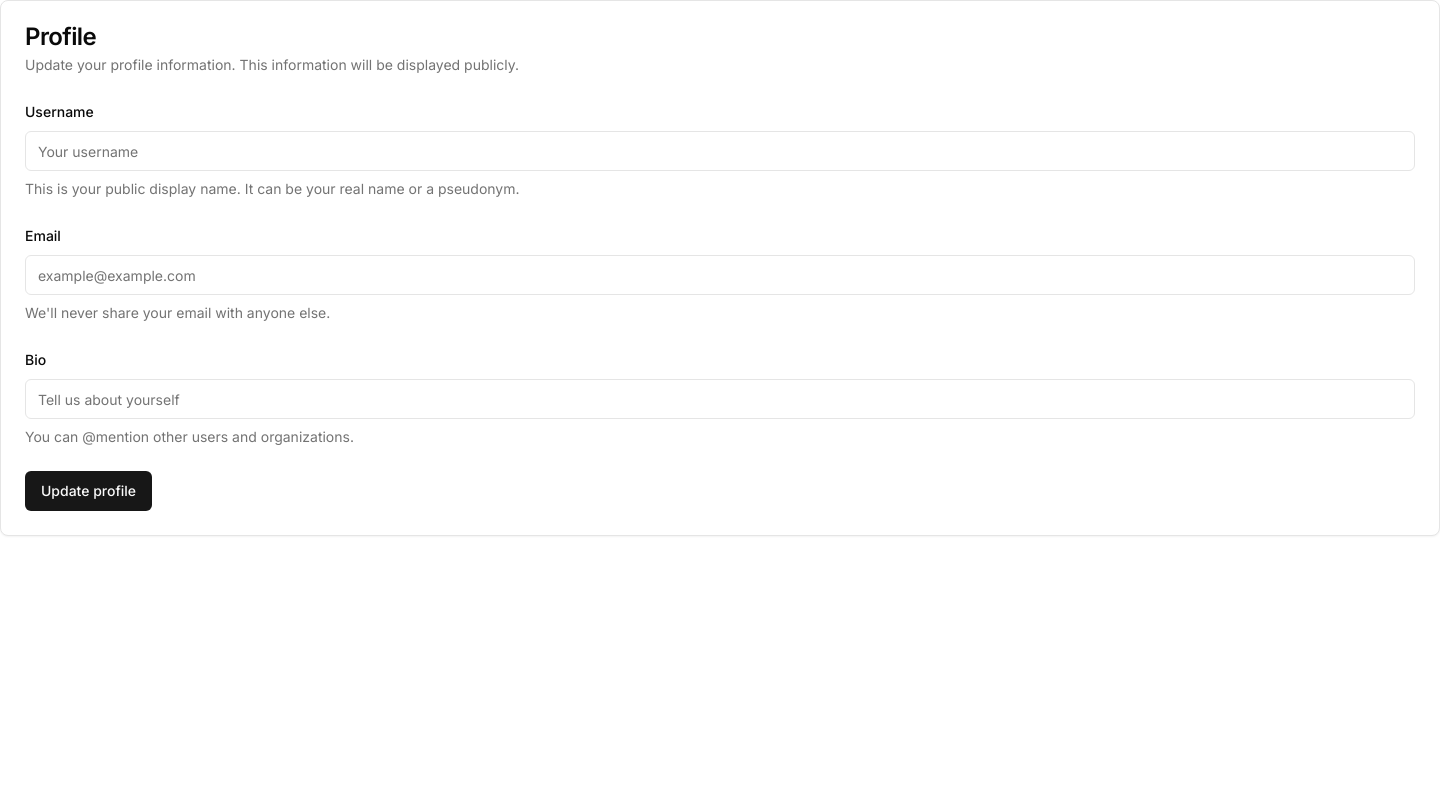
Test: UserProfileForm › validates form fields
// Try to submit with empty fields
What coordinates should you click on to do the following:
click the button "Update profile"
I would click on:
 (89, 491)
Its box is [25,471,152,511].
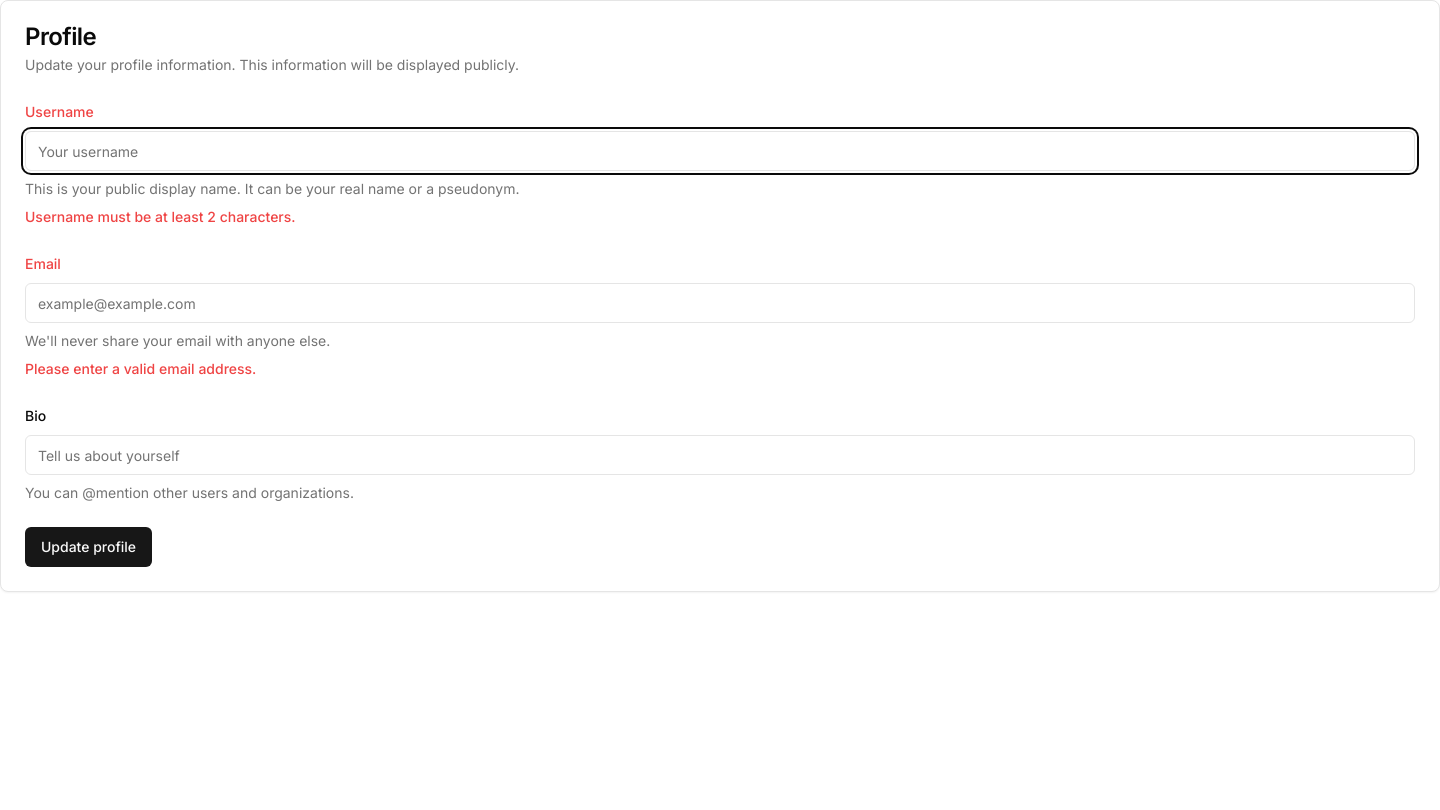
Now the text "Username must be at least 2 characters." is shown, box [25,208,296,225]
Now the text "Please enter a valid email address." is shown, box [25,360,256,377]
